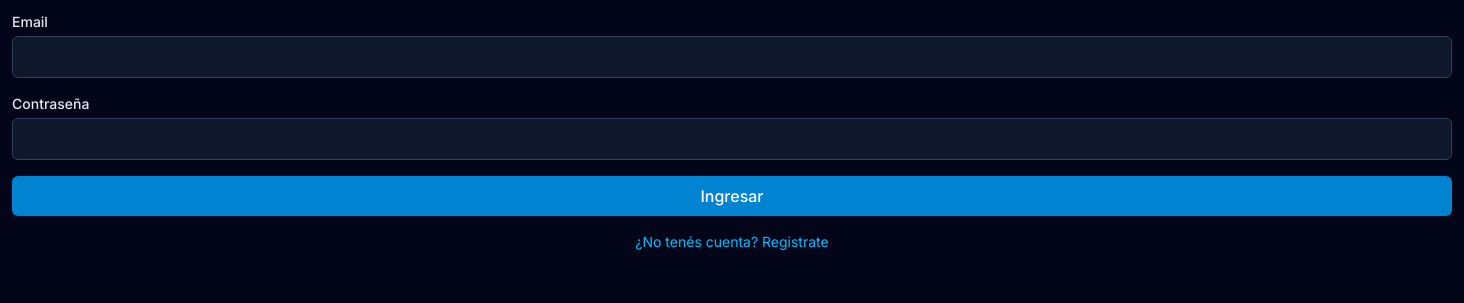
it: LoginForm: comportamiento › un 401 muestra "Credenciales incorrectas." visible en el formulario
The width and height of the screenshot is (1464, 303).
Type "alice@example.com" into the field labelled "Email" at (732, 57), box [12,36,1452,78]
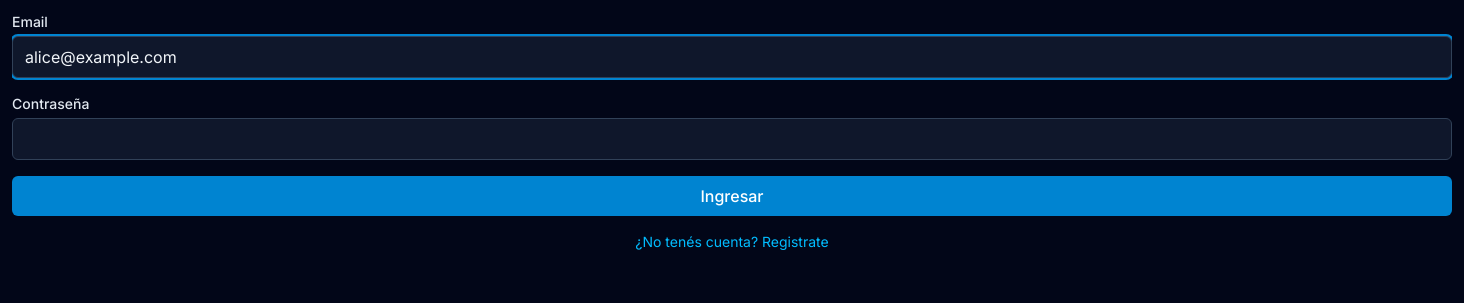
Type "wrong-pass" into the password field labelled "Contraseña" at (732, 139), box [12,118,1452,160]
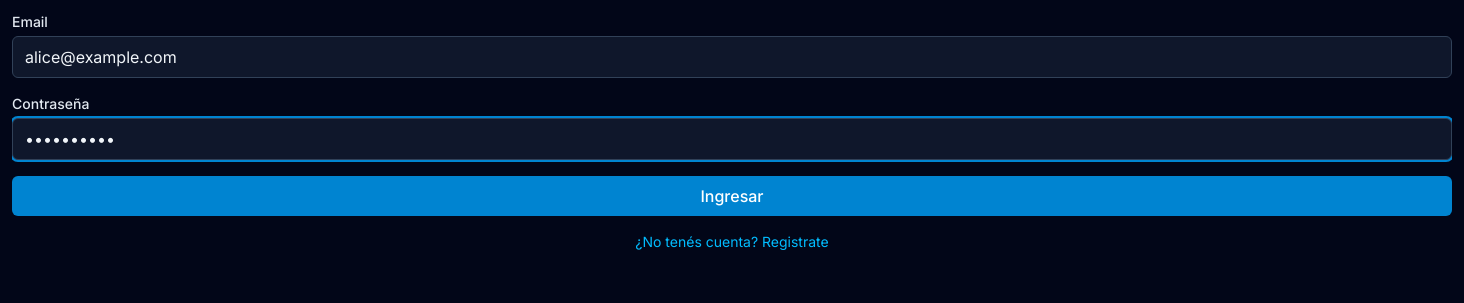
Click the button "Ingresar" at (732, 196), box [12,176,1452,216]
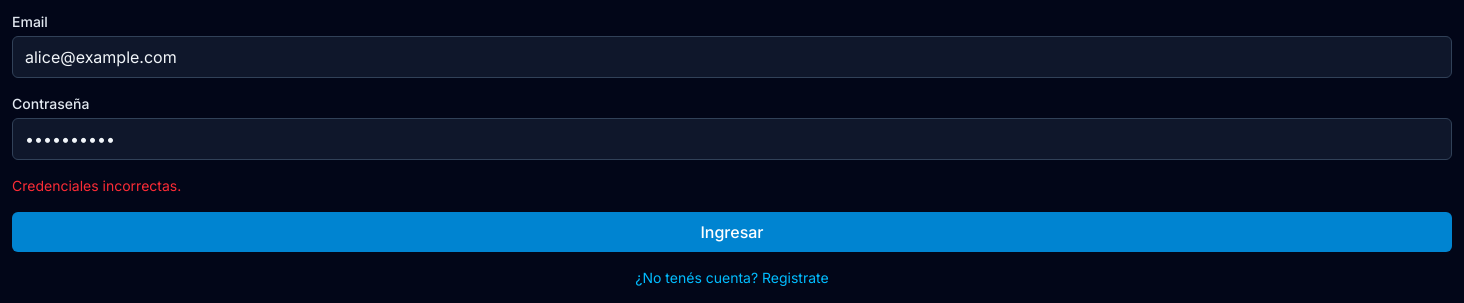
Result: the text "Credenciales incorrectas." is shown at [12,177,181,194]
